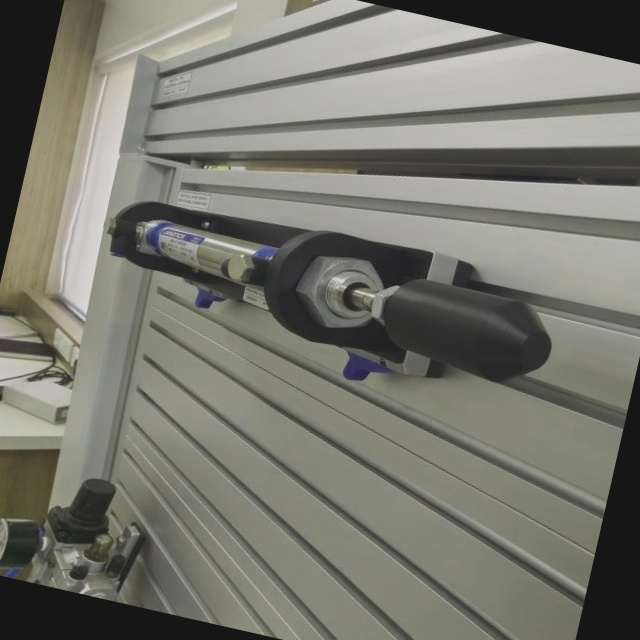double acting pneumatic cylinder: (80, 177, 570, 430)
